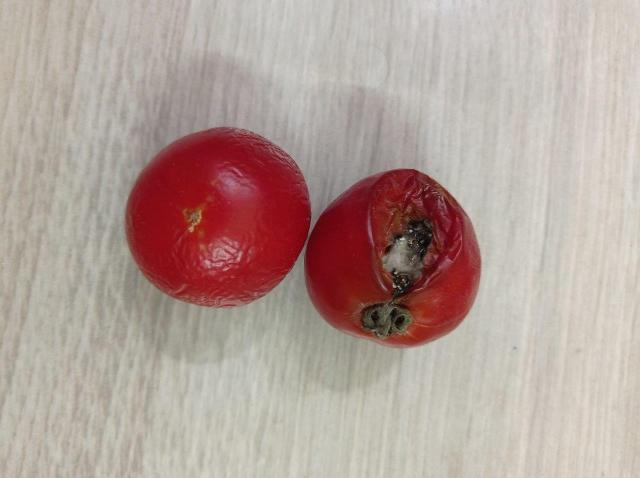defect: (300, 165, 485, 350), (177, 196, 214, 244)
